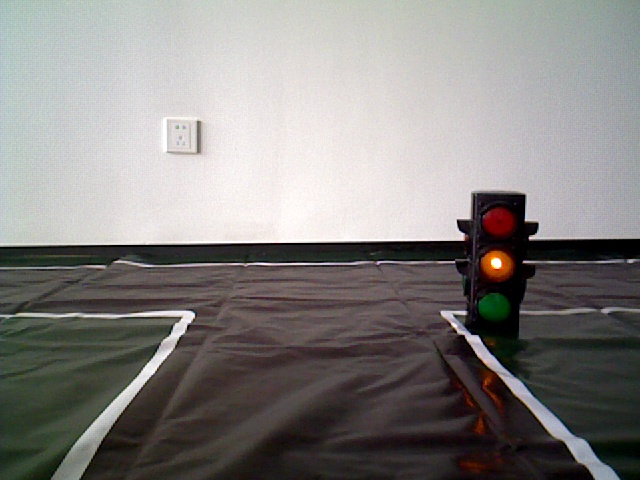yellow: (475, 192, 520, 327)
